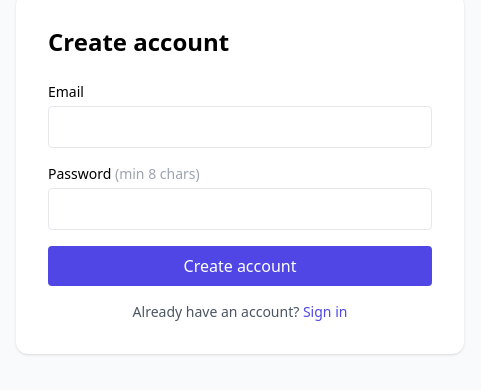
RegisterPage › shows error on duplicate email
The image size is (481, 390).
Type "dup@test.com" into the field with test id "email-input" at (240, 127), box [48, 106, 432, 148]
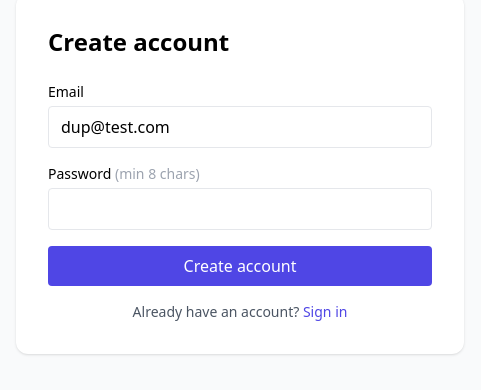
Type "somepassword" into the password field with test id "password-input" at (240, 209), box [48, 188, 432, 230]
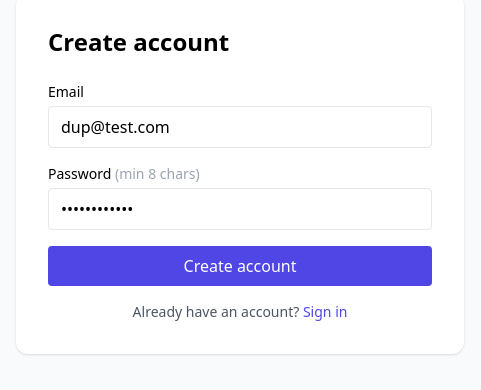
Click the button with test id "submit-button" at (240, 266), box [48, 246, 432, 286]
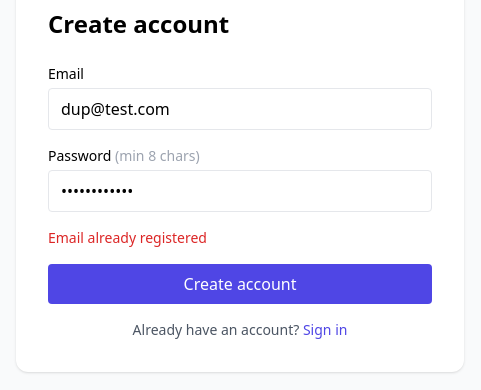
expect the text "Email already registered" is shown: met, box [48, 228, 207, 247]
